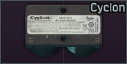Cyclon rechargeable battery: (0, 0, 127, 64)
